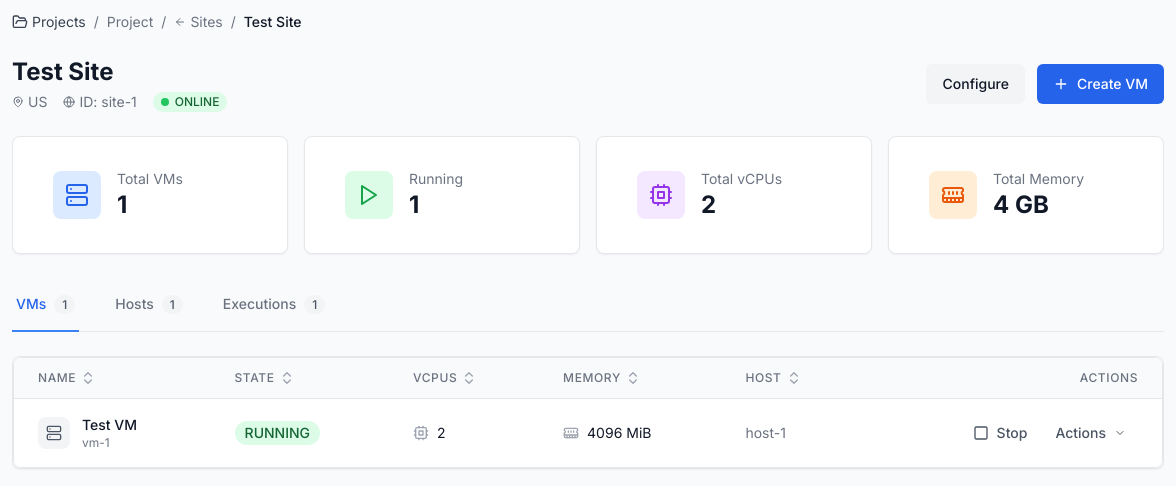
Test: SiteDashboard › switches to hosts tab when clicked
expect the text "Test VM" is shown: met, box [82,415,137,435]
Note: Click on Hosts tab
Click the button "Hosts1" at (149,305), box [111,278,187,332]
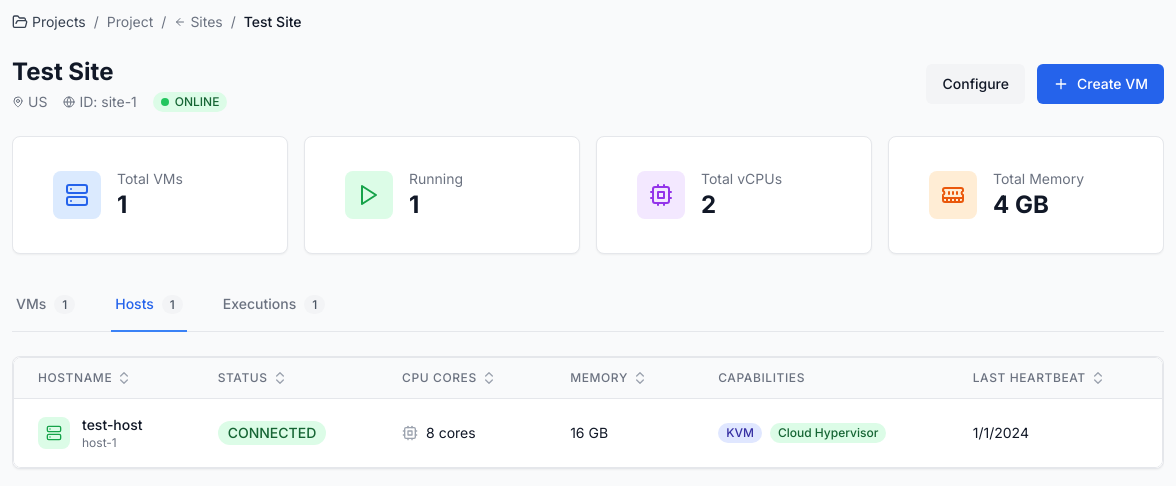
expect the text "test-host" is shown: met, box [82,415,143,435]
